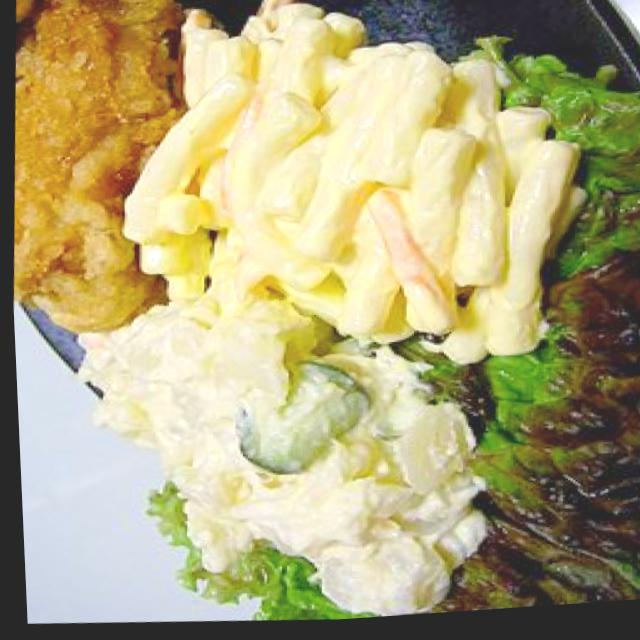蔬菜料理: (37, 0, 605, 638)
